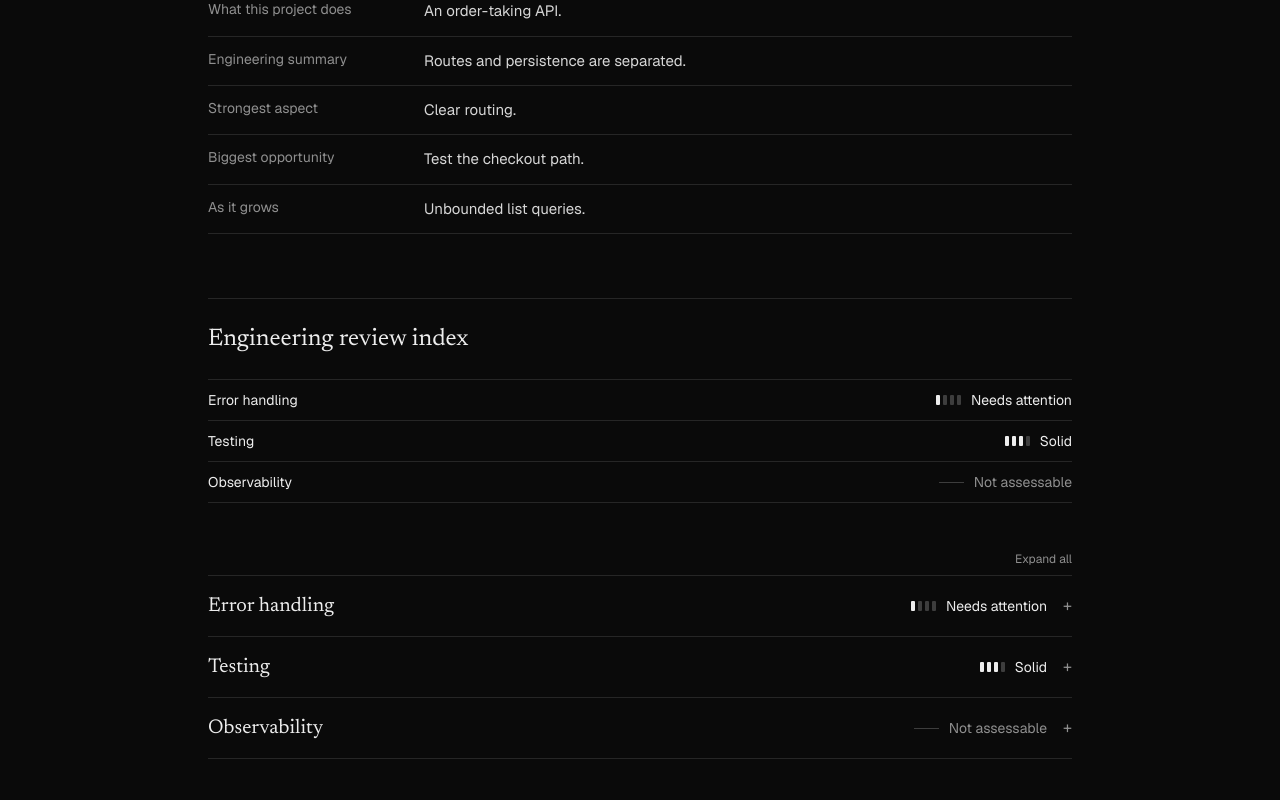
Test case: the index opens a dimension; findings show evidence and personalised advice
This screenshot has width=1280, height=800.
(page scrolled)
Click the button "Error handling Needs attention": {"x": 253, "y": 400} [208, 380, 1072, 420]
(page scrolled)
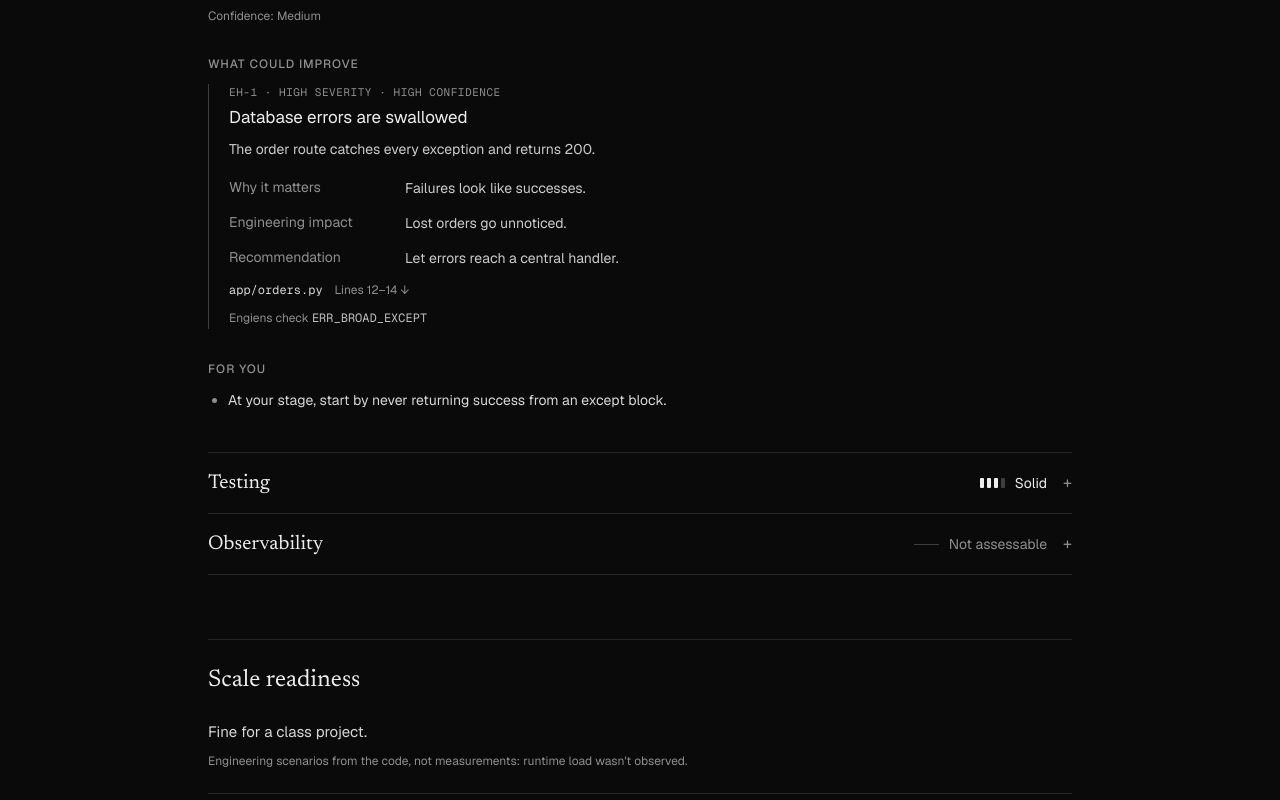
Result: the heading "Database errors are swallowed" is shown at [229, 106, 468, 128]
Result: the text "app/orders.py" is shown at [229, 281, 323, 299]
Result: the text "ERR_BROAD_EXCEPT" is shown at [312, 310, 427, 326]
